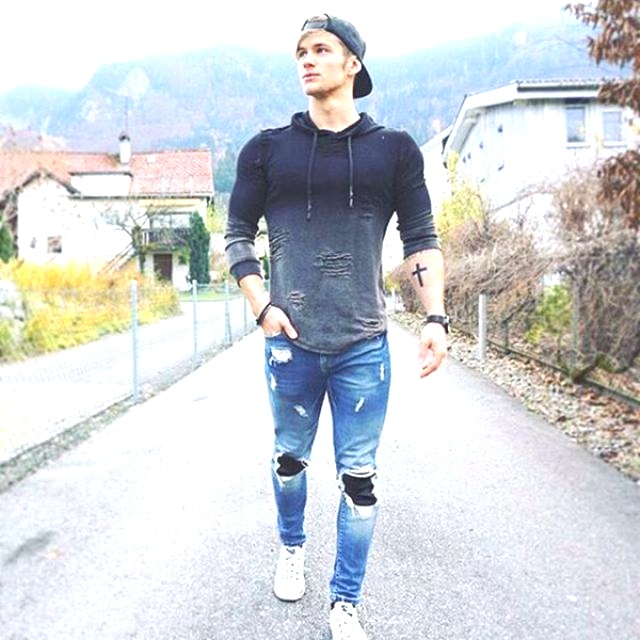ripped_pants: (266, 333, 394, 603)
